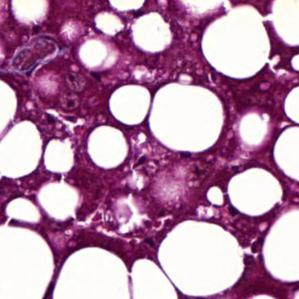steatosis: (86, 124, 130, 171), (109, 82, 151, 126), (283, 86, 299, 124)
